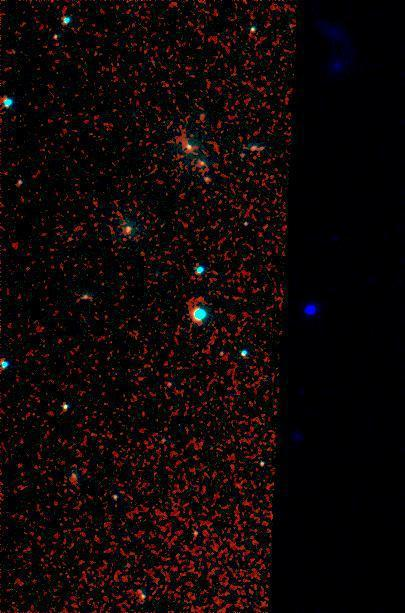star: (112, 216, 142, 246)
